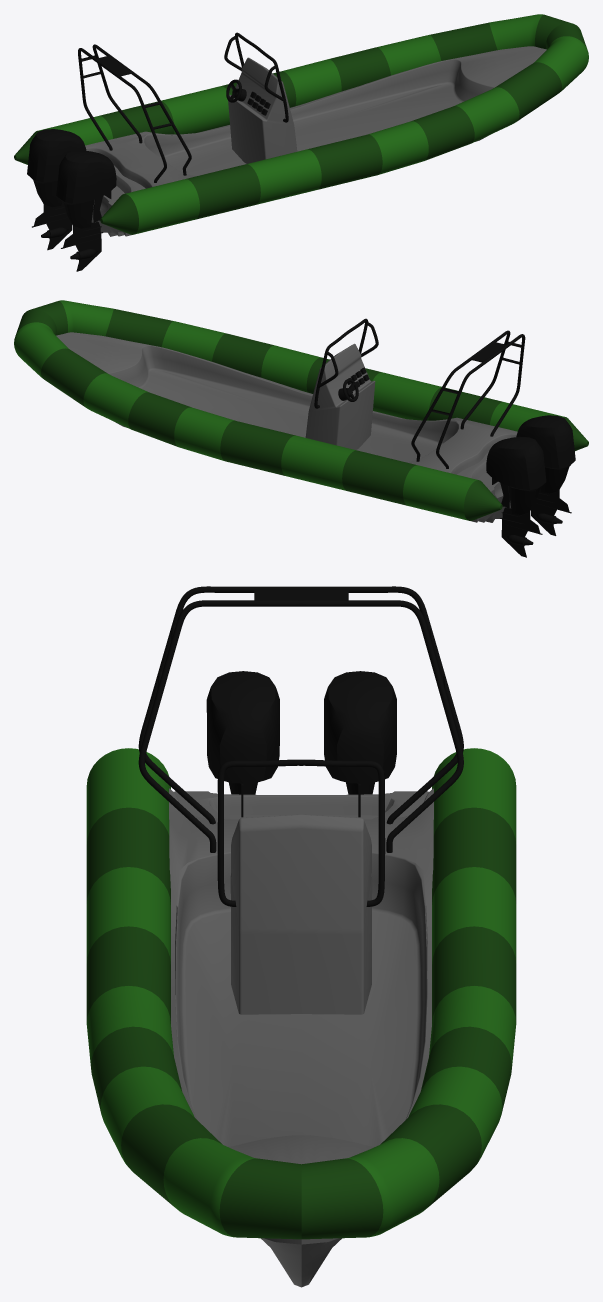
The model's file is Zodiac_Askeri.fbx.
3 views of the same model, one above another, from view 1: azimuth 30°, elevation 25°; view 2: azimuth 150°, elevation 25°; view 3: azimuth 270°, elevation 25° (orthographic). The views are drawn at different scales.
Visible parts, largest first — view 1: Zodiac_Askeri; view 2: Zodiac_Askeri; view 3: Zodiac_Askeri.
Part boxes in pixels (bbox=[...]): Zodiac_Askeri: bbox=[14, 14, 588, 271]; Zodiac_Askeri: bbox=[14, 300, 588, 557]; Zodiac_Askeri: bbox=[86, 586, 516, 1287].
Size of the model in its own units: 465 by 151 by 161.
